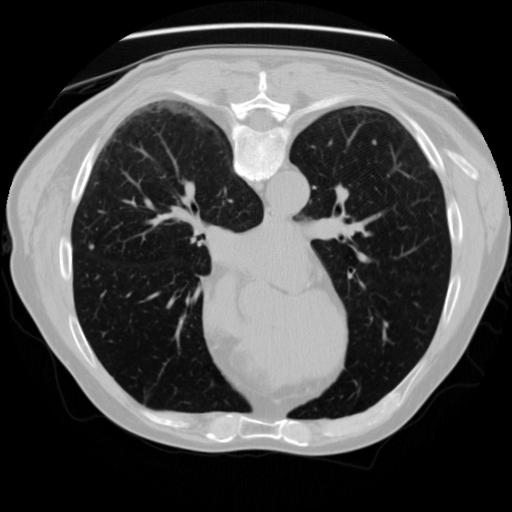nodule: (368, 139, 379, 150)
